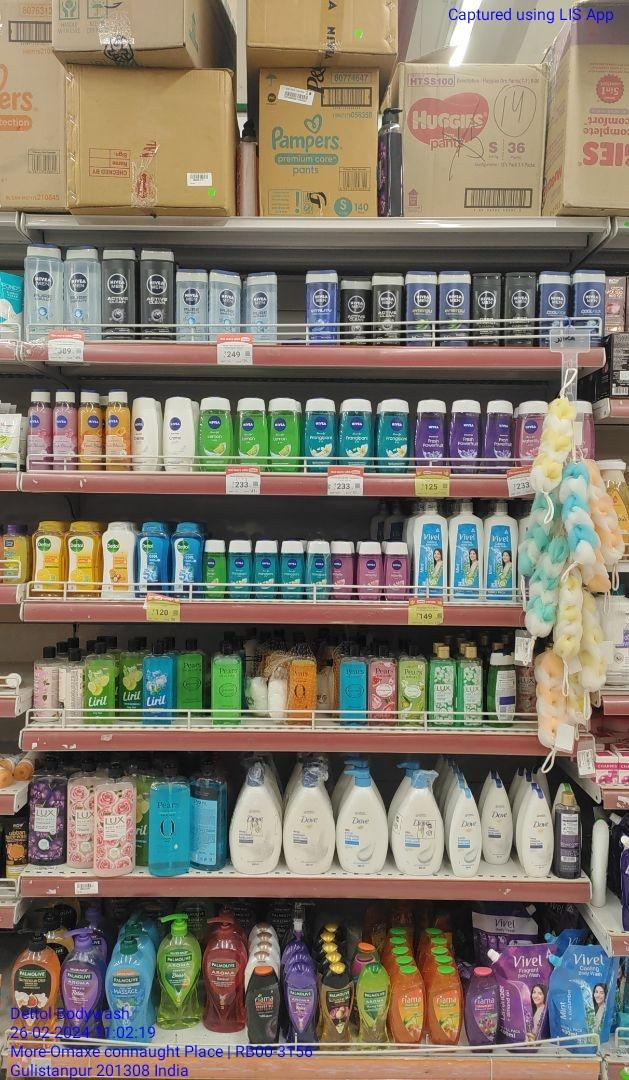Dettol_Bodywash_Cool: (136, 520, 169, 597), (171, 520, 204, 597)
Dettol_Bodywash_Refresh: (65, 520, 100, 597), (30, 518, 63, 595)
Dettol_Nourish_Body_Wash_250ML: (102, 520, 137, 599)
Dove_Deep_Moisture_Body_Wash_250ML: (518, 790, 555, 876), (483, 781, 515, 870)
Dove_Gentle_Exfoliating_Body_Wash_250ML: (450, 787, 481, 876)
Nivea_Shower_Gel_Frangipani_and_Oil_250ML: (339, 396, 375, 471), (376, 396, 411, 473), (303, 396, 337, 469)
Nivea_Shower_Gel_Fresh_Powerfruit_250ML: (448, 399, 484, 470), (414, 397, 448, 467), (485, 398, 515, 472), (383, 539, 409, 600), (357, 538, 381, 598), (331, 537, 353, 598)
Nivea_Shower_Gel_Lemon_and_Oil_250ML: (197, 396, 234, 468), (268, 396, 300, 473), (234, 396, 267, 469)
